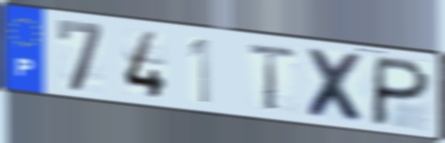1: (188, 37, 212, 106)
4: (122, 28, 169, 101)
7: (54, 17, 106, 94)
P: (367, 54, 434, 129)
T: (246, 41, 300, 113)
X: (304, 45, 371, 127)
